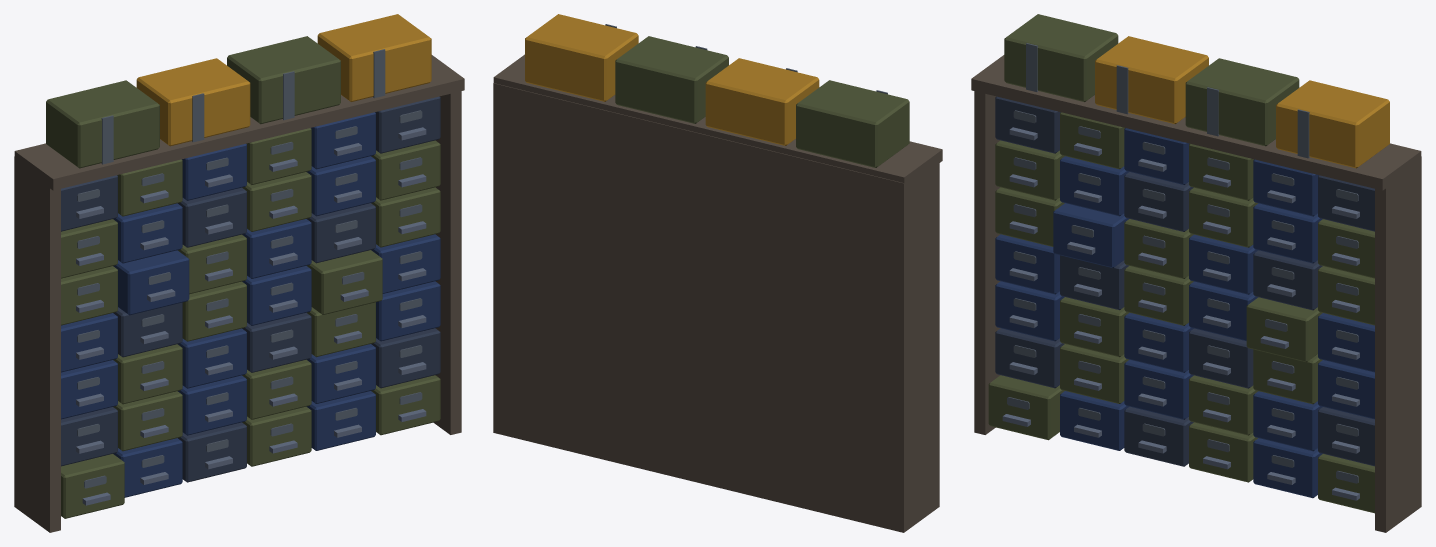
File: bw_targ_drawer_wall.glb
3 views of the same model, side by side, from view 1: azimuth 30°, elevation 25°; view 2: azimuth 150°, elevation 25°; view 3: azimuth 330°, elevation 25° (orthographic).
Visible parts, largest first — view 1: cabinet_back.002, cabinet_back.005, cabinet_back.001, cabinet_back.006, cabinet_back, cabinet_back.003, cabinet_back.004; view 2: cabinet_back.001, cabinet_back.002, cabinet_back; view 3: cabinet_back.002, cabinet_back.005, cabinet_back.001, cabinet_back.006, cabinet_back, cabinet_back.003, cabinet_back.004.
Part boxes in pixels (left/top/right/bottom): cabinet_back.002: left=46, top=36, right=440, bottom=518; cabinet_back.005: left=61, top=112, right=440, bottom=497; cabinet_back.001: left=14, top=55, right=464, bottom=532; cabinet_back.006: left=61, top=96, right=440, bottom=482; cabinet_back: left=136, top=14, right=431, bottom=146; cabinet_back.003: left=77, top=49, right=422, bottom=488; cabinet_back.004: left=76, top=127, right=426, bottom=505; cabinet_back.001: left=493, top=54, right=942, bottom=532; cabinet_back.002: left=615, top=36, right=909, bottom=167; cabinet_back: left=525, top=14, right=819, bottom=145; cabinet_back.002: left=988, top=14, right=1374, bottom=513; cabinet_back.005: left=995, top=128, right=1374, bottom=498; cabinet_back.001: left=971, top=55, right=1421, bottom=532; cabinet_back.006: left=995, top=96, right=1374, bottom=466; cabinet_back: left=1095, top=36, right=1389, bottom=168; cabinet_back.003: left=1007, top=43, right=1358, bottom=483; cabinet_back.004: left=1002, top=127, right=1359, bottom=500.
Size of the model in its own units: 3 by 2.8 by 0.5.
